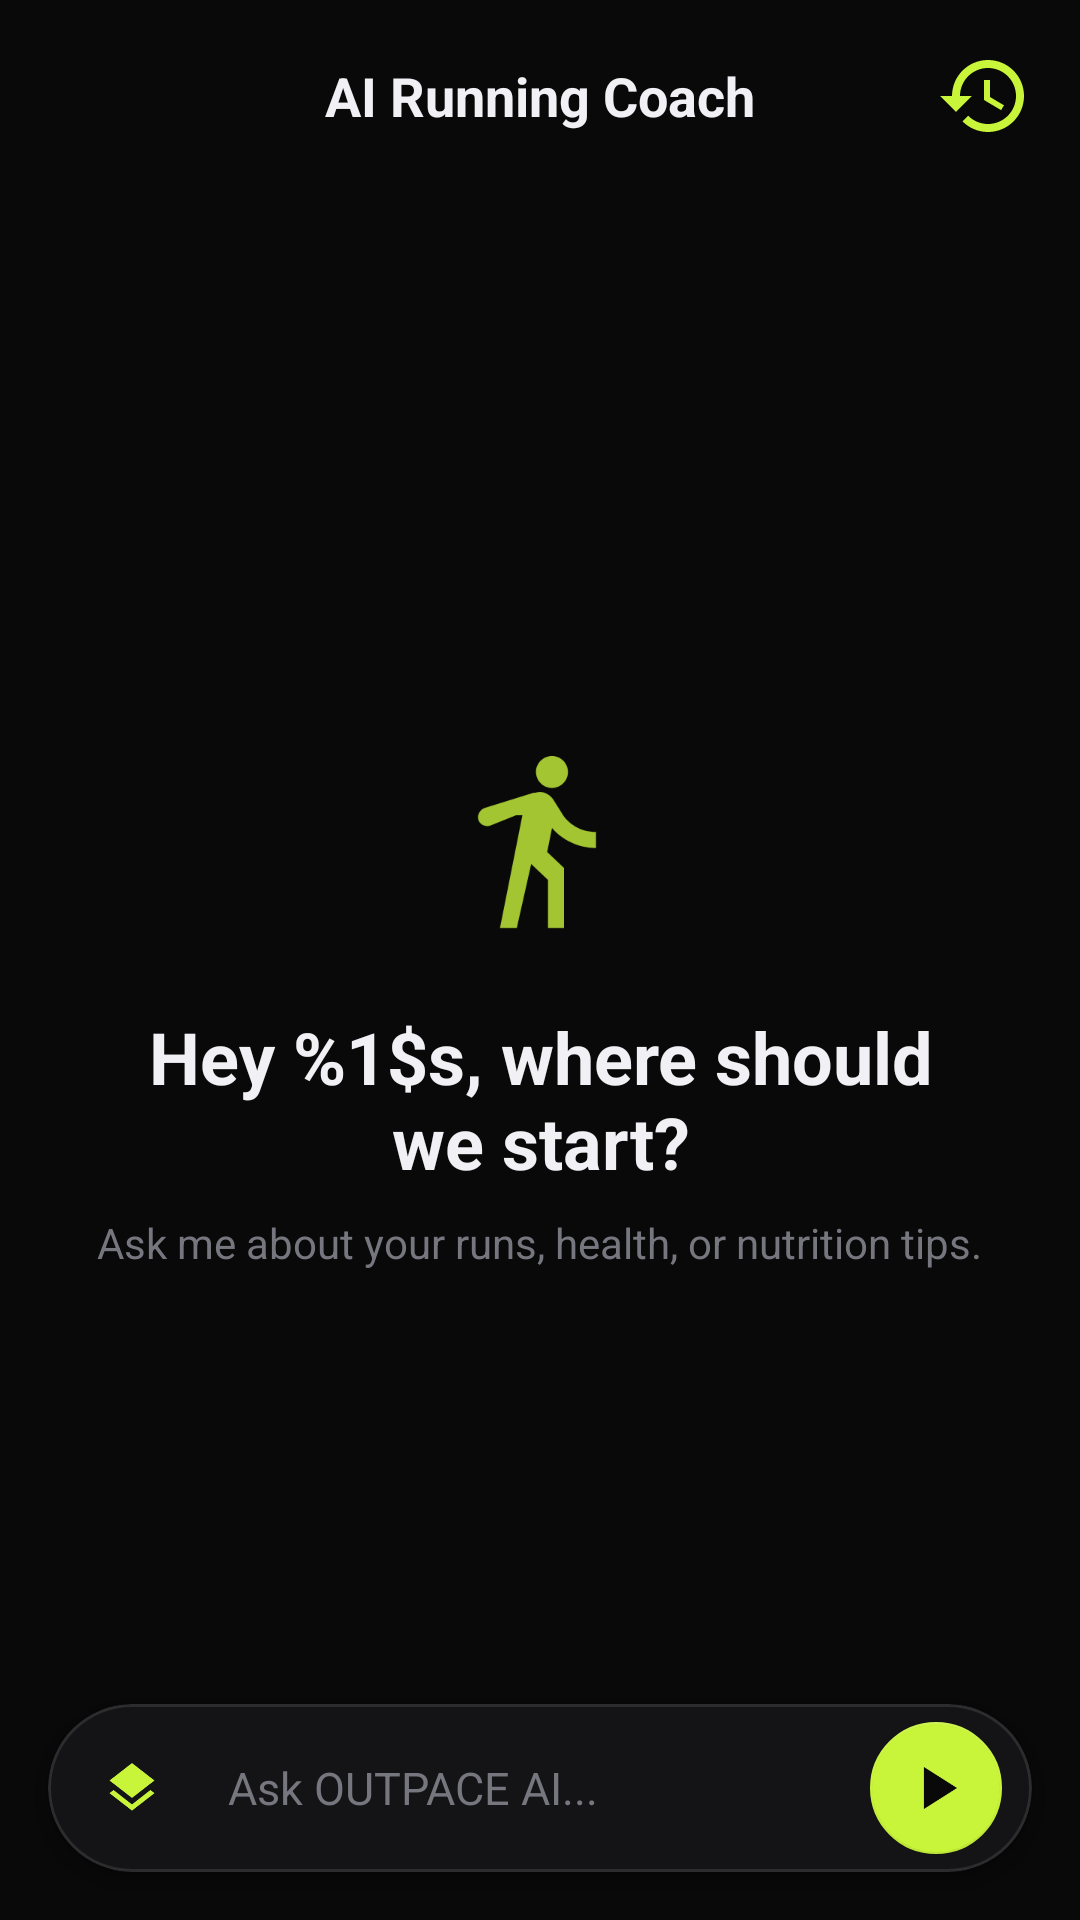

Named icons in this screenshot (1080 x 1920) and their centers, point (x, y):
history: point (982, 96)
layers: point (132, 1787)
play: point (936, 1788)
